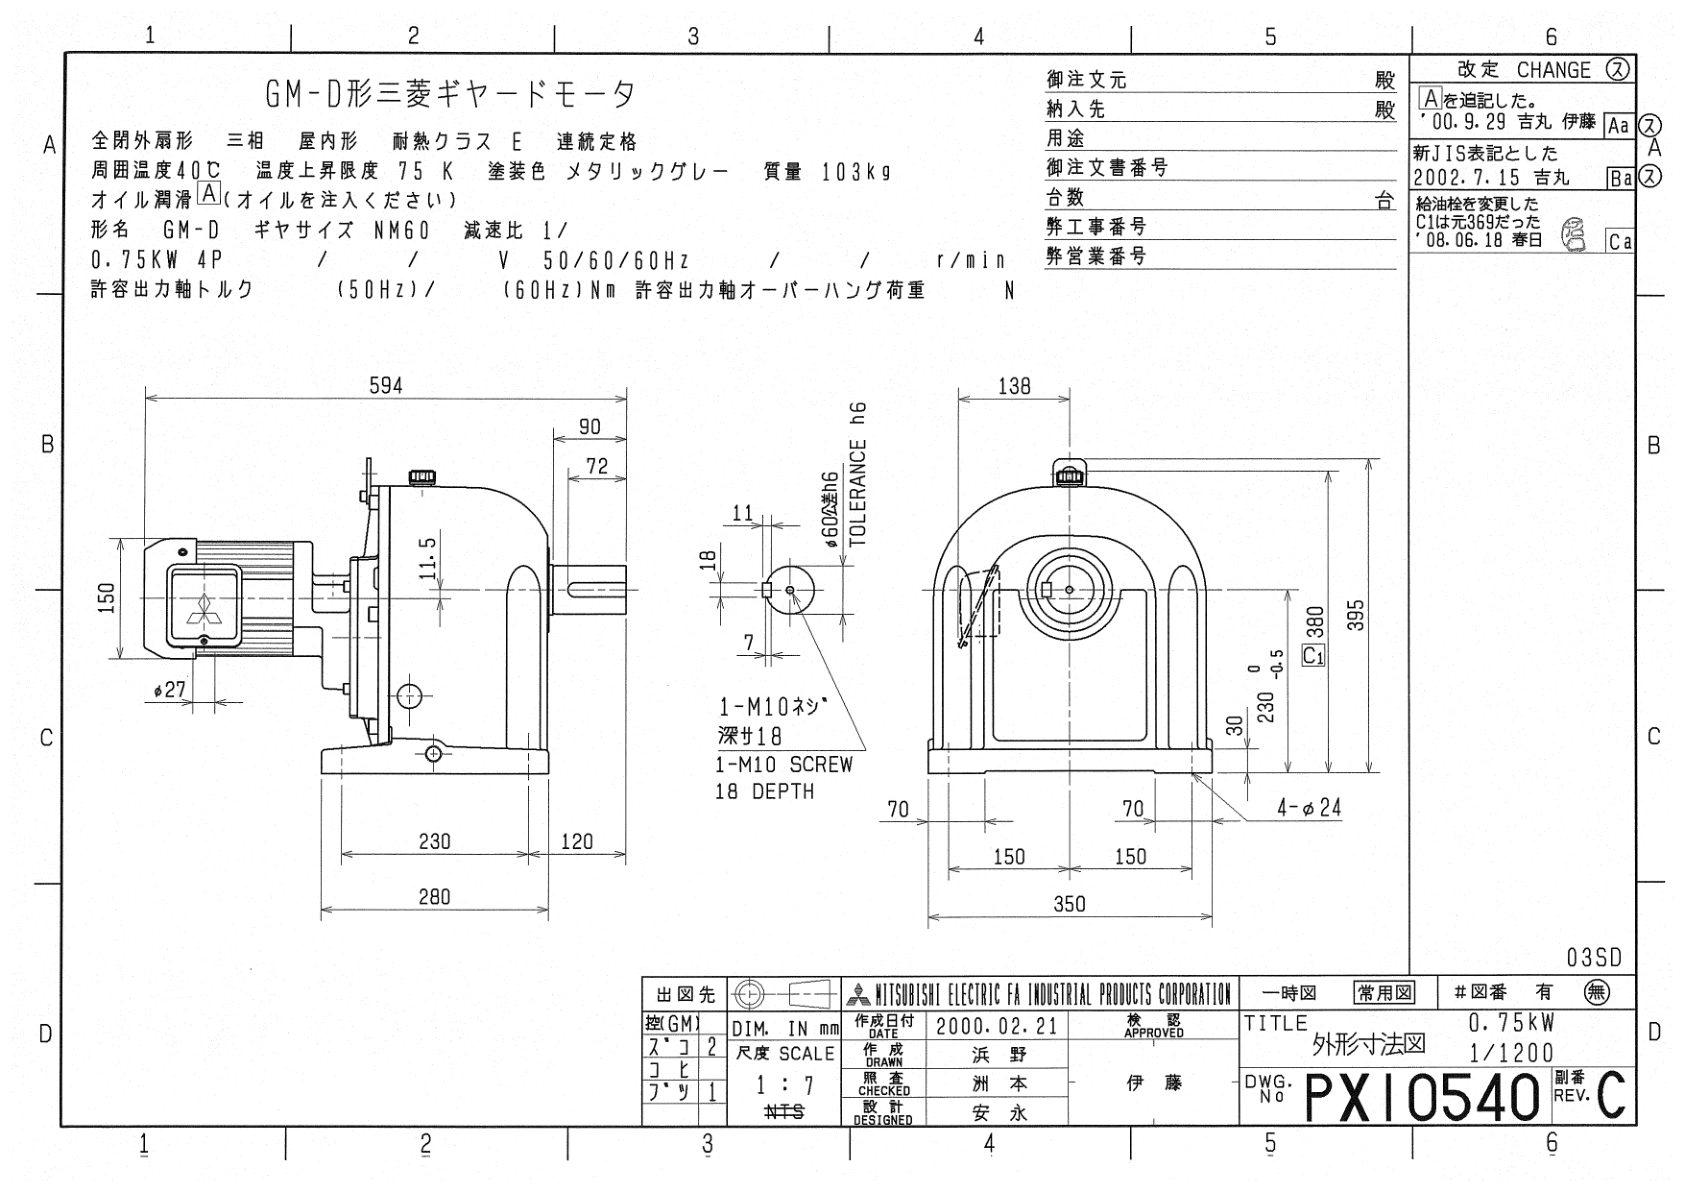GM_D_屋内＿三相_脚: (1, 1, 1681, 1184)
